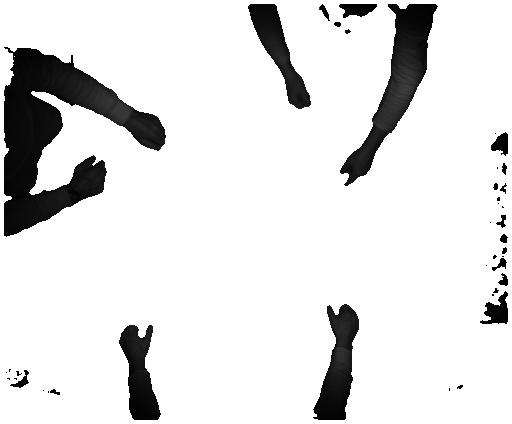fist: (74, 153, 111, 201), (134, 111, 167, 151), (283, 77, 311, 111)
hand: (112, 320, 159, 363), (336, 143, 376, 191), (320, 304, 359, 341)
